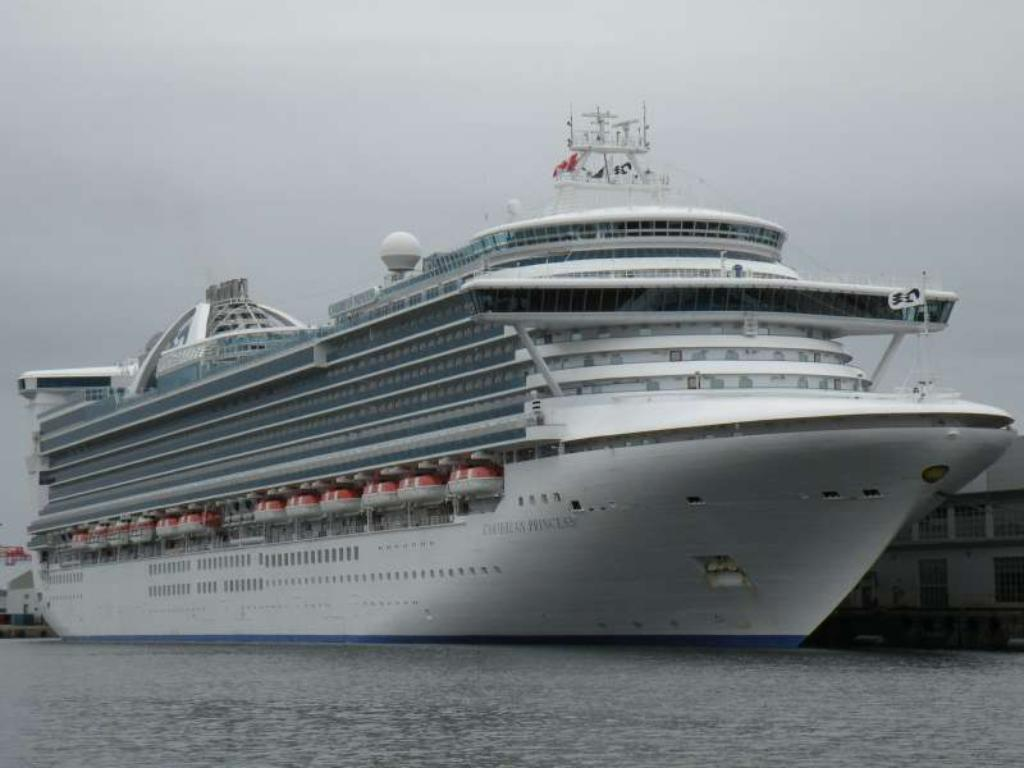PassengerShip: (8, 95, 1006, 656)
